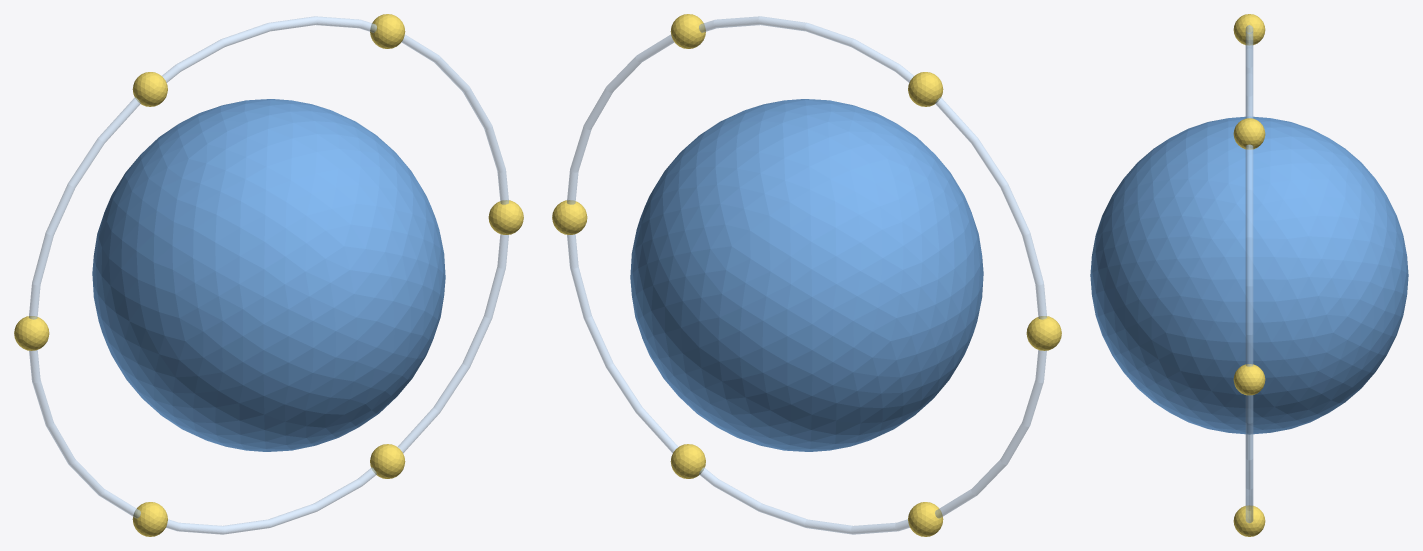
The model's file is Na_plus.glb.
3 renders of one model, left to right at view 1: azimuth 30°, elevation 25°; view 2: azimuth 150°, elevation 25°; view 3: azimuth 270°, elevation 25°, orthographic. The views are drawn at different scales.
Parts seen in each view (by area): view 1: ion_core, electron_shell, electron_0, electron_3, electron_2, electron_5, electron_1, electron_4; view 2: ion_core, electron_shell, electron_0, electron_3, electron_2, electron_5, electron_1, electron_4; view 3: ion_core, electron_shell, electron_0, electron_1, electron_5, electron_2.
Part boxes in pixels (left/top/right/bottom): ion_core: left=92, top=99, right=445, bottom=451; electron_shell: left=29, top=16, right=508, bottom=534; electron_0: left=488, top=200, right=523, bottom=234; electron_3: left=14, top=316, right=49, bottom=350; electron_2: left=132, top=72, right=167, bottom=106; electron_5: left=370, top=444, right=405, bottom=478; electron_1: left=370, top=14, right=405, bottom=48; electron_4: left=132, top=502, right=167, bottom=536; ion_core: left=630, top=99, right=983, bottom=451; electron_shell: left=567, top=16, right=1046, bottom=534; electron_0: left=552, top=200, right=587, bottom=234; electron_3: left=1026, top=316, right=1061, bottom=350; electron_2: left=908, top=72, right=943, bottom=106; electron_5: left=670, top=444, right=705, bottom=478; electron_1: left=670, top=14, right=705, bottom=48; electron_4: left=908, top=502, right=943, bottom=536; ion_core: left=1090, top=116, right=1408, bottom=434; electron_shell: left=1245, top=25, right=1253, bottom=523; electron_0: left=1233, top=364, right=1265, bottom=395; electron_1: left=1233, top=118, right=1265, bottom=149; electron_5: left=1233, top=505, right=1265, bottom=536; electron_2: left=1233, top=14, right=1265, bottom=45.
Size of the model in its own units: 3.3 by 3.15 by 2.
